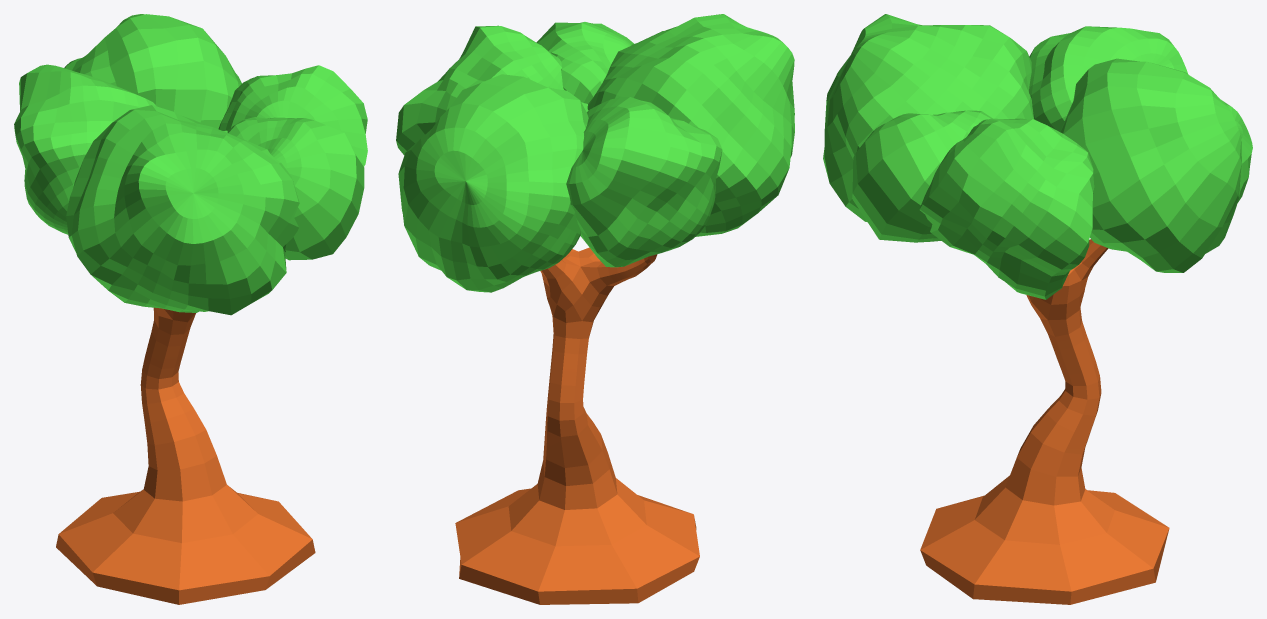
The model's file is Arvore_4a_viva_.fbx.
3 renders of one model, left to right at view 1: azimuth 30°, elevation 25°; view 2: azimuth 150°, elevation 25°; view 3: azimuth 270°, elevation 25°, orthographic. The views are drawn at different scales.
Parts seen in each view (by area): view 1: Sphere.001, Vert, Sphere.004, Sphere.005, Sphere.002, Sphere; view 2: Vert, Sphere.005, Sphere.001, Sphere.004, Sphere, Sphere.002; view 3: Vert, Sphere.005, Sphere, Sphere.001, Sphere.002, Sphere.004.
Boxes of the visible parts, box(x1,y1,x2,y2) form: Sphere.001: box(66, 105, 299, 315); Vert: box(56, 307, 315, 604); Sphere.004: box(14, 64, 157, 234); Sphere.005: box(64, 14, 241, 128); Sphere.002: box(227, 117, 364, 260); Sphere: box(218, 65, 367, 166); Vert: box(455, 247, 699, 604); Sphere.005: box(398, 74, 588, 292); Sphere.001: box(587, 14, 794, 236); Sphere.004: box(566, 97, 722, 267); Sphere: box(396, 25, 564, 155); Sphere.002: box(536, 22, 633, 103); Vert: box(920, 239, 1169, 604); Sphere.005: box(1060, 58, 1252, 272); Sphere: box(919, 118, 1094, 299); Sphere.001: box(823, 14, 1034, 221); Sphere.002: box(852, 110, 992, 242); Sphere.004: box(1029, 26, 1187, 131).
Bounding box in the file's own units: 1311 × 1944 × 1515.
